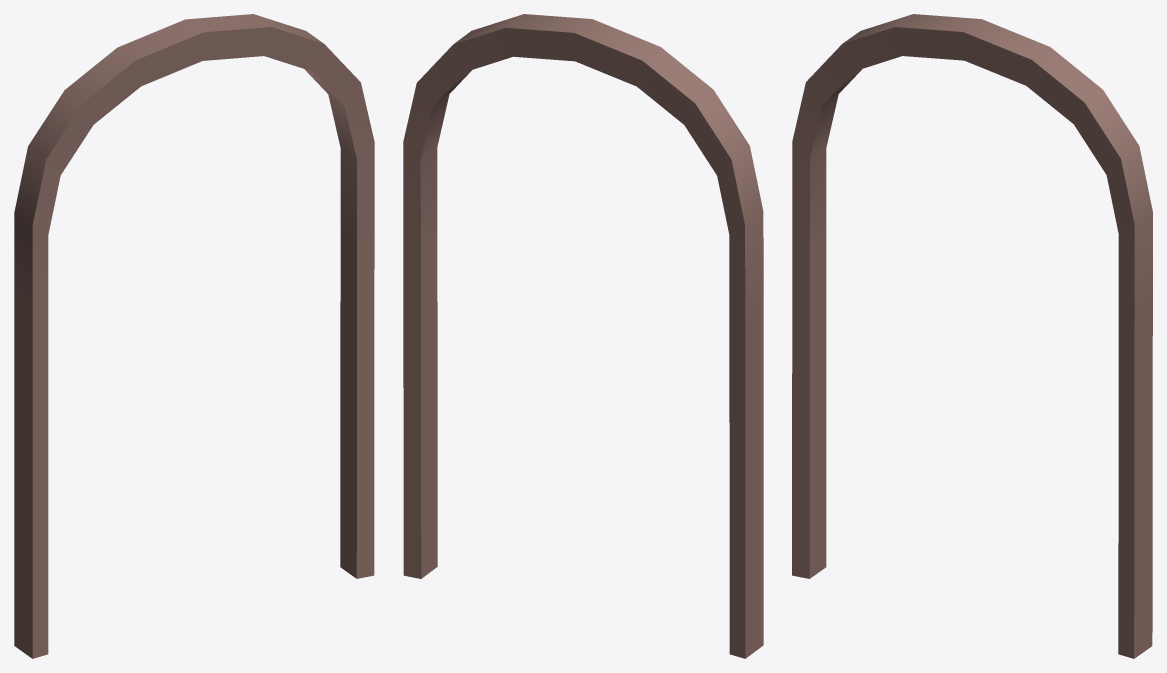
The model's file is Atelier_house_arc_interior_door_frame.fbx.
The picture shows the model from 3 angles, left to right: view 1: azimuth 30°, elevation 25°; view 2: azimuth 150°, elevation 25°; view 3: azimuth 330°, elevation 25°; orthographic projection.
Parts seen in each view (by area): view 1: Atelier_house_arc_interior_door_frame; view 2: Atelier_house_arc_interior_door_frame; view 3: Atelier_house_arc_interior_door_frame.
Boxes of the visible parts, box(x1,y1,x2,y2) form: Atelier_house_arc_interior_door_frame: box(14, 14, 374, 658); Atelier_house_arc_interior_door_frame: box(403, 14, 763, 658); Atelier_house_arc_interior_door_frame: box(792, 14, 1152, 658).
Bounding box in the file's own units: 165 × 269 × 15.6.
